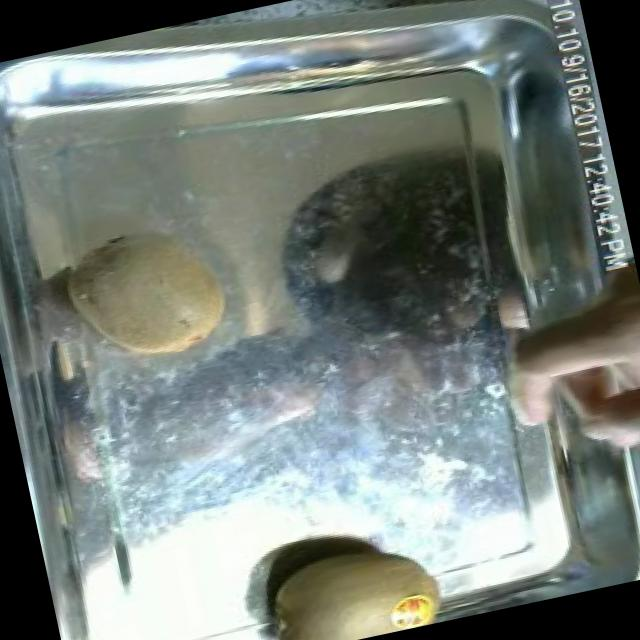Fruit: (50, 205, 246, 381), (246, 516, 457, 640)
